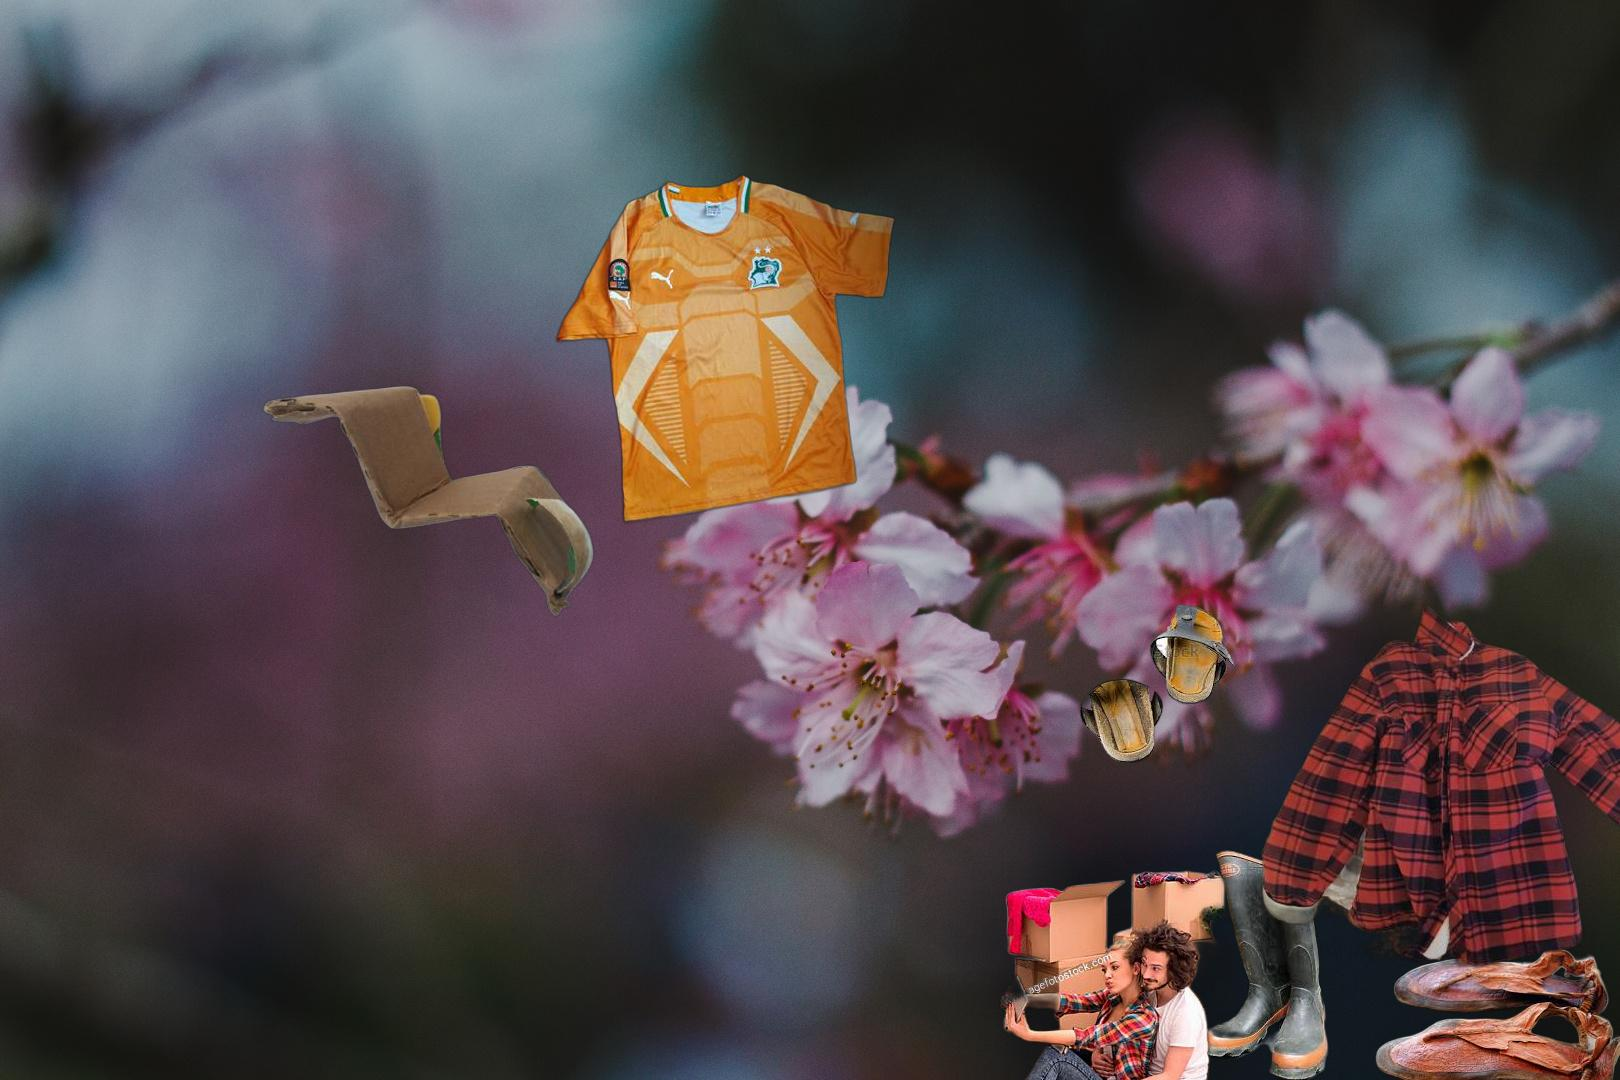biological: (1491, 193, 1620, 691)
clothes: (1260, 599, 1620, 1003), (552, 171, 899, 526)
shoes: (1195, 830, 1331, 1080), (1373, 945, 1620, 1080), (1078, 603, 1237, 765)
trashbox-cardboard: (259, 383, 598, 620), (884, 865, 1249, 1080)
